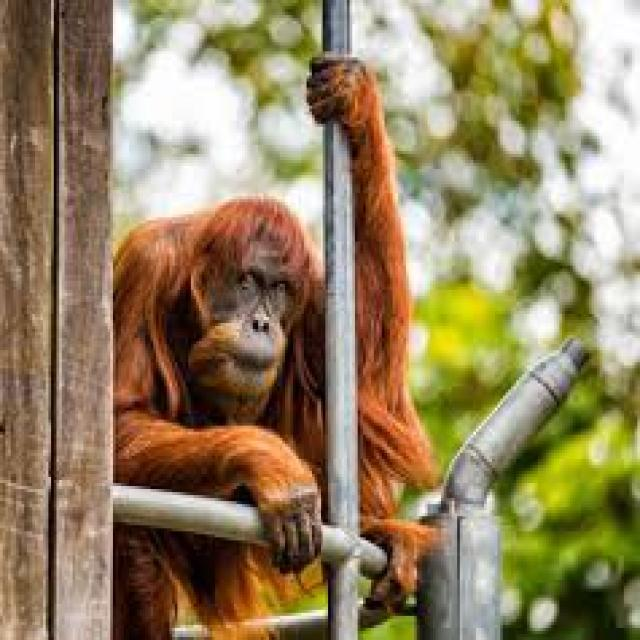Orangutan: (114, 61, 417, 600)
